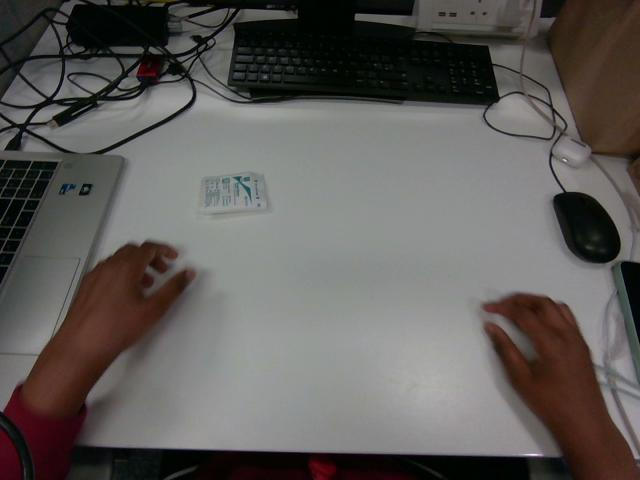gauze: (198, 172, 267, 214)
